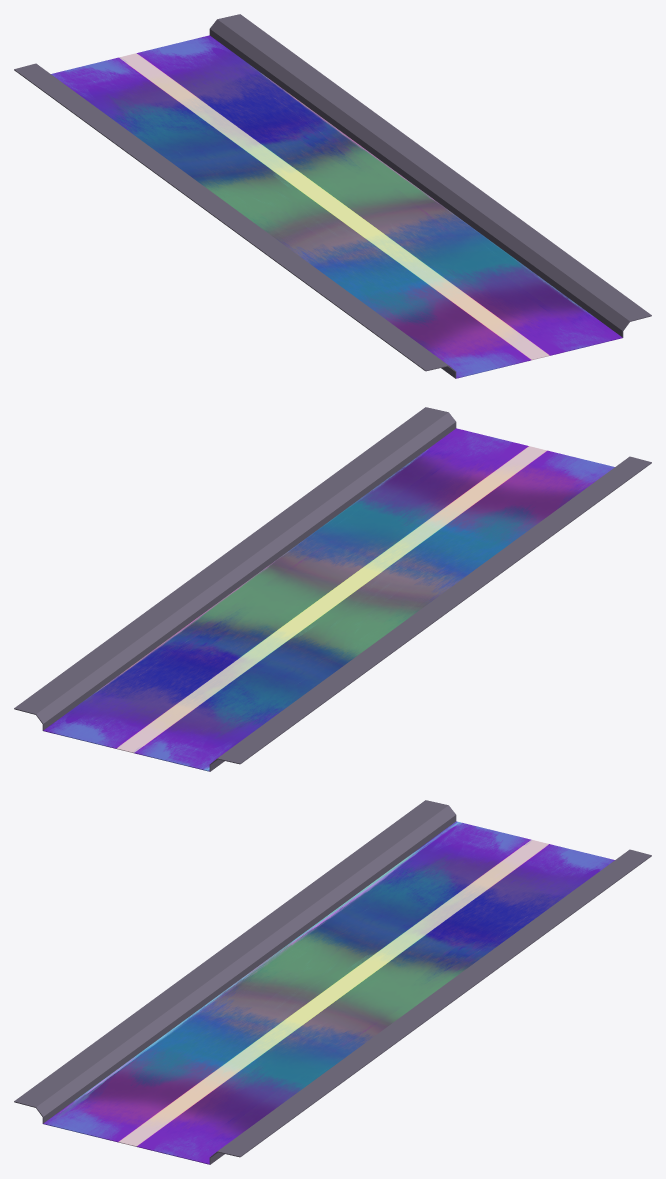
The model's file is SUP_ARCH_Road.fbx.
3 renders of one model, top to bottom at view 1: azimuth 30°, elevation 25°; view 2: azimuth 150°, elevation 25°; view 3: azimuth 330°, elevation 25°, orthographic.
Visible parts, largest first — view 1: rect-road-quantick; view 2: rect-road-quantick; view 3: rect-road-quantick.
Part boxes in pixels (<box>): rect-road-quantick: <box>14,14,651,378</box>; rect-road-quantick: <box>14,407,651,771</box>; rect-road-quantick: <box>14,800,651,1164</box>.
Bounding box in the file's own units: 714 × 45.25 × 2255.
Materials: 2 (1 with a texture image).
